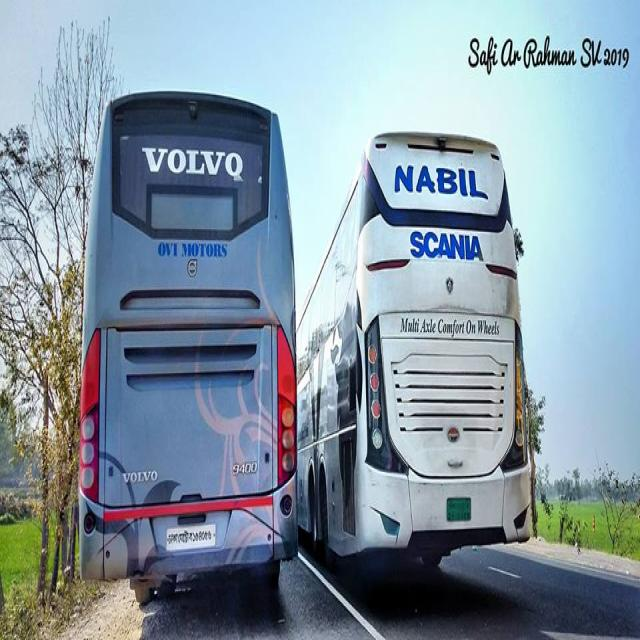bus: (80, 86, 300, 608), (297, 129, 533, 571)
